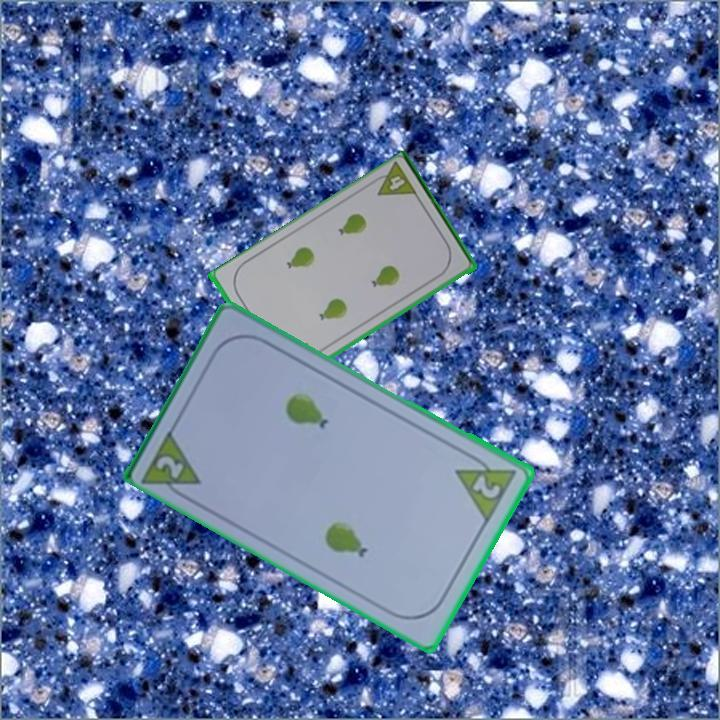2p: (452, 448, 520, 526), (153, 451, 188, 482)
4p: (367, 160, 420, 200)
